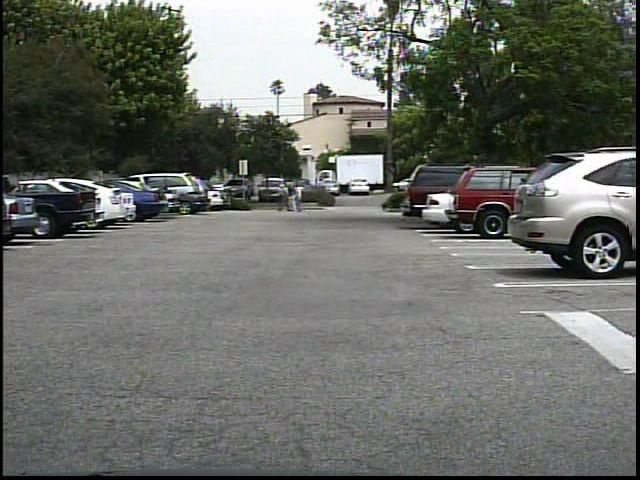person: (294, 183, 310, 214), (277, 184, 292, 214), (294, 184, 295, 214)
